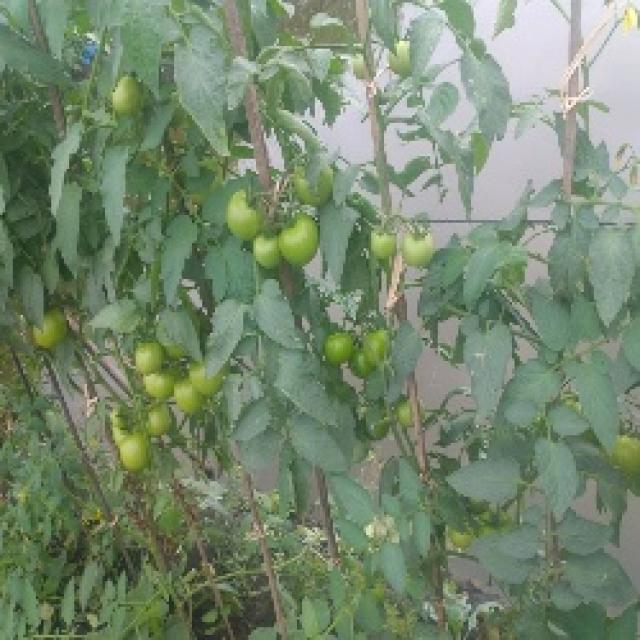tomato: (278, 213, 328, 265), (219, 189, 265, 242), (32, 306, 74, 357), (122, 362, 173, 403), (109, 73, 156, 116), (399, 225, 437, 277), (172, 370, 207, 421), (196, 357, 229, 407), (117, 437, 151, 484), (252, 230, 284, 278), (368, 222, 400, 266), (109, 401, 146, 437), (620, 421, 640, 480), (477, 500, 515, 530), (137, 345, 171, 375), (327, 330, 351, 370), (382, 41, 412, 73), (144, 401, 174, 432), (397, 388, 419, 429), (363, 319, 385, 353), (353, 351, 372, 374), (453, 531, 471, 554)
